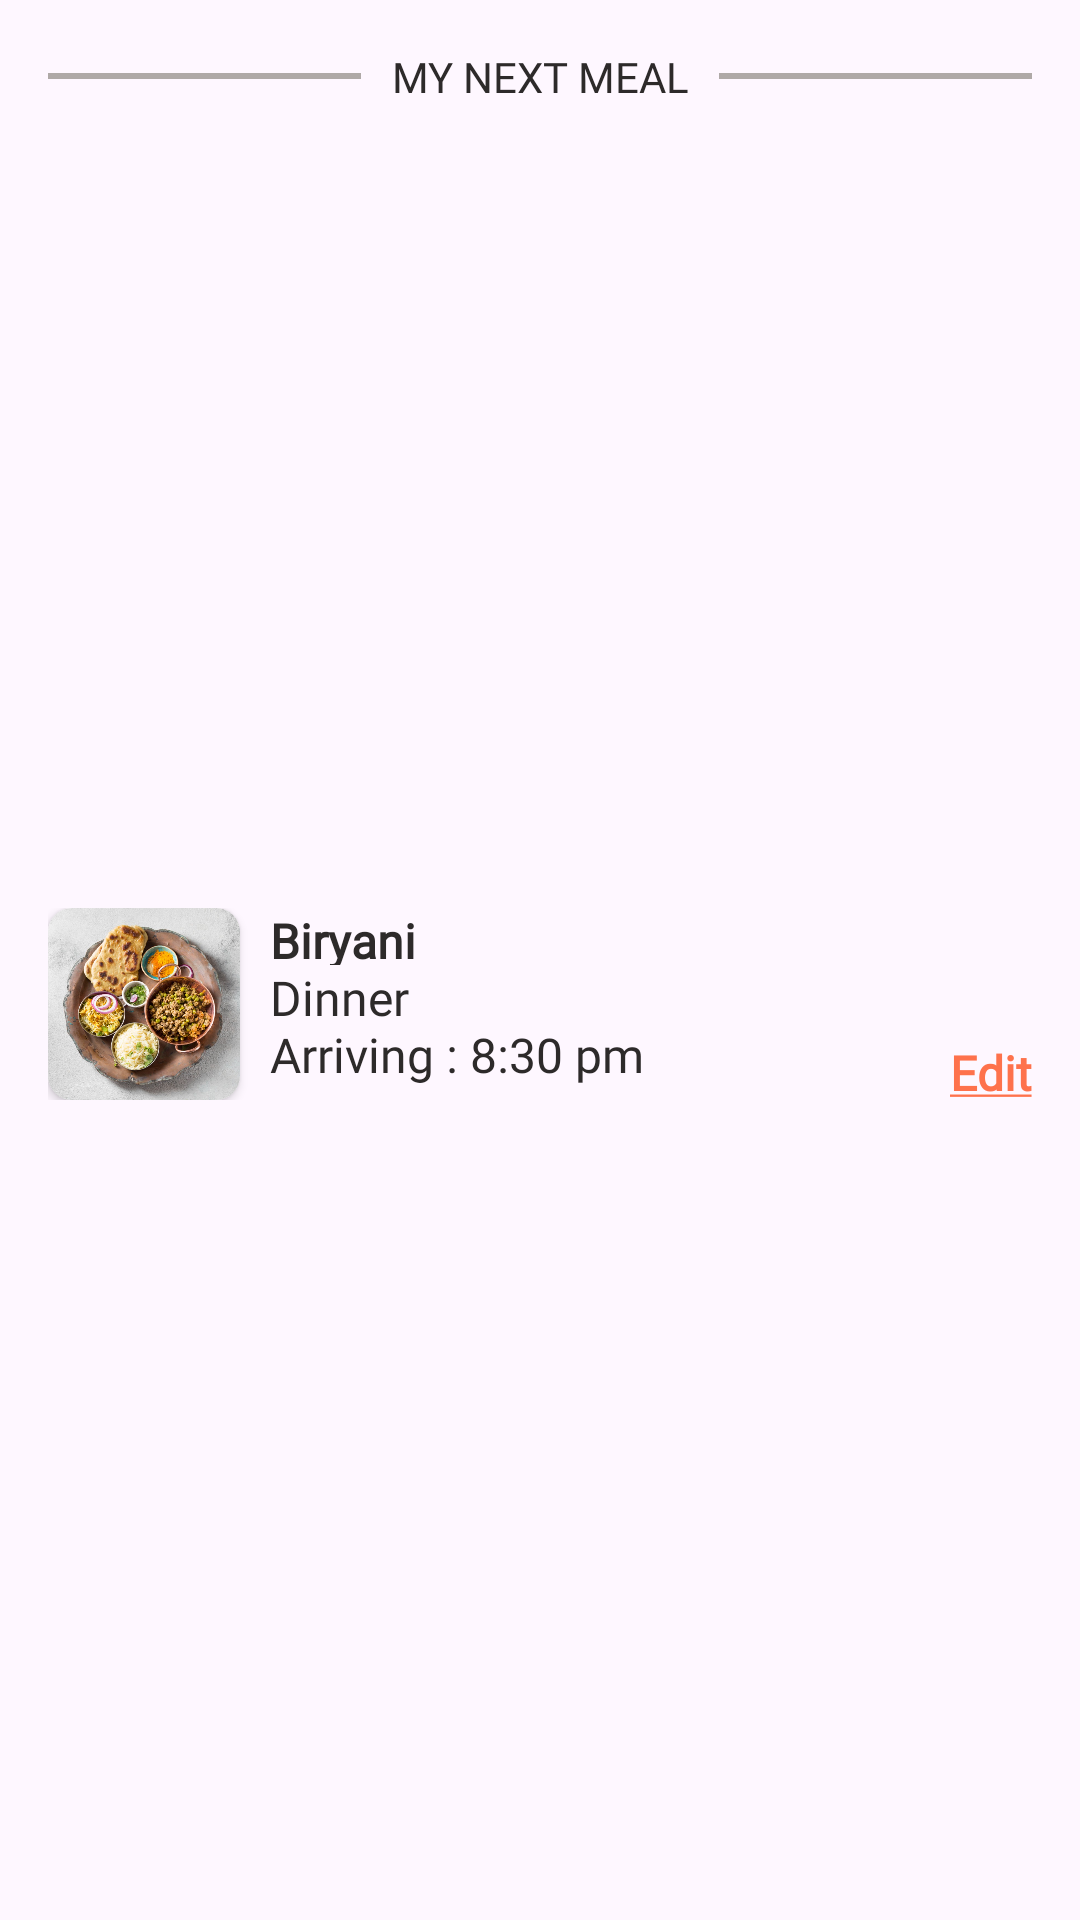

Icons on this 1080w x 1920h Android screen, each with its box as bbox=(x1, y1, x2, y2):
food: bbox=(48, 908, 240, 1100)
